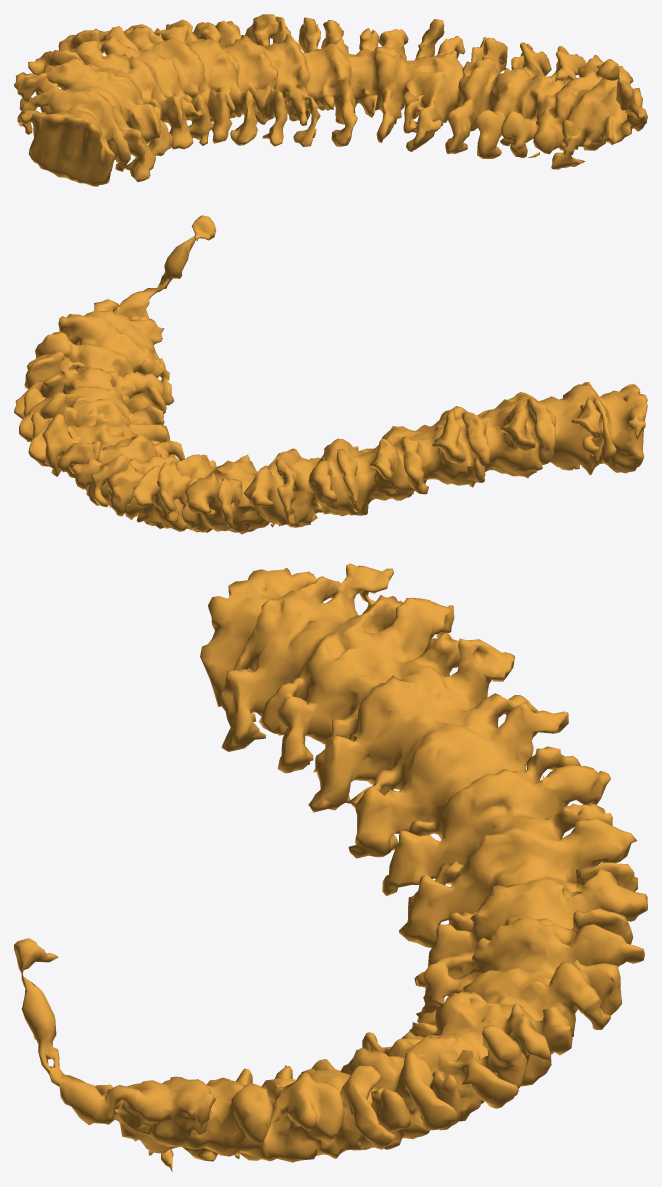
File: gut1.glb
The picture shows the model from 3 angles, top to bottom: view 1: azimuth 30°, elevation 25°; view 2: azimuth 150°, elevation 25°; view 3: azimuth 270°, elevation 25°; orthographic projection. The views are drawn at different scales.
Visible parts, largest first — view 1: Contour Mesh Of entire ant gut; view 2: Contour Mesh Of entire ant gut; view 3: Contour Mesh Of entire ant gut.
Part boxes in pixels (<box>): Contour Mesh Of entire ant gut: <box>14,14,647,186</box>; Contour Mesh Of entire ant gut: <box>14,215,647,534</box>; Contour Mesh Of entire ant gut: <box>14,563,647,1171</box>.
Size of the model in its own units: 9.04 by 2.65 by 5.68.
